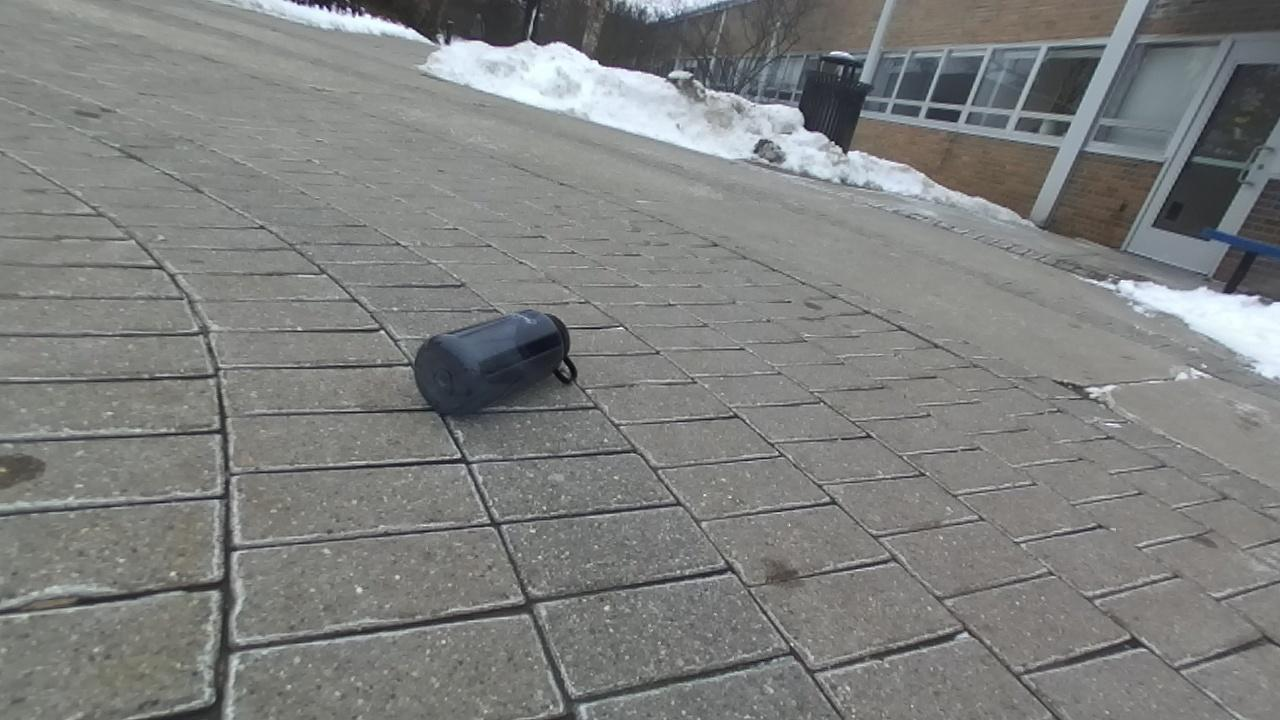bottle: (414, 310, 576, 414)
